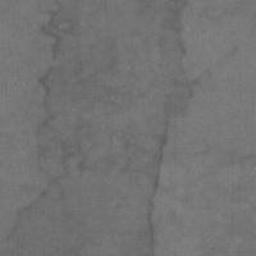Water spot: (0, 0, 204, 256)
